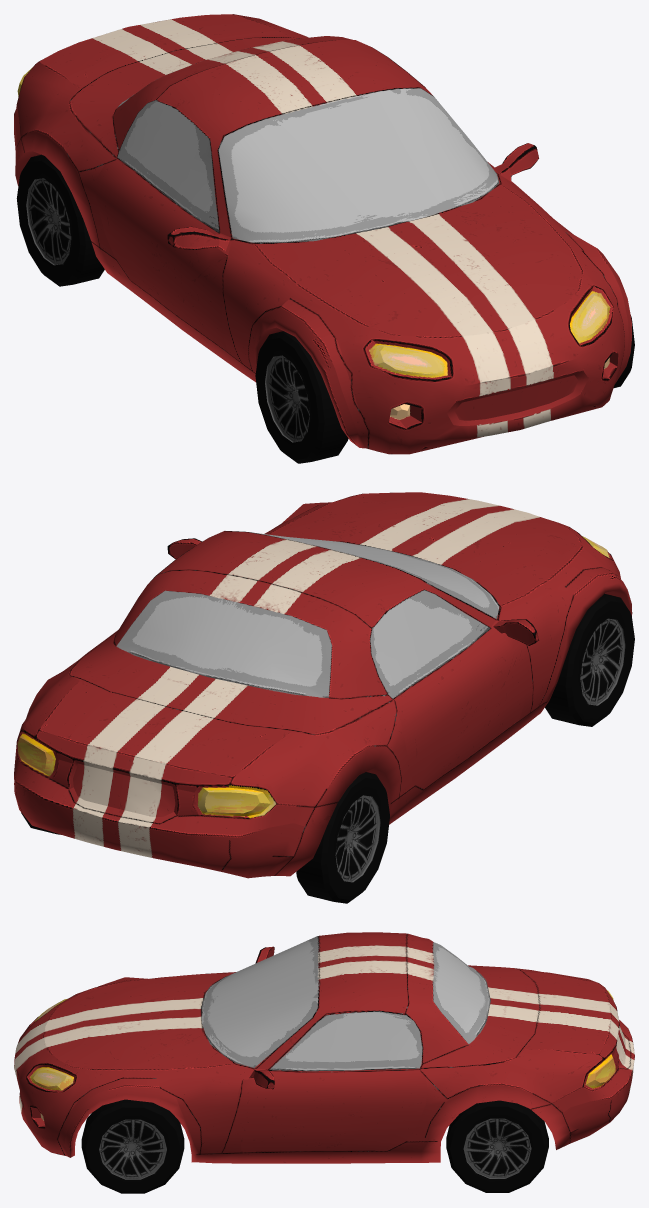
Rendered from Mazda.fbx.
The picture shows the model from 3 angles, top to bottom: view 1: azimuth 30°, elevation 25°; view 2: azimuth 150°, elevation 25°; view 3: azimuth 270°, elevation 25°; orthographic projection. The views are drawn at different scales.
Visible parts, largest first — view 1: Mazda, Mazda_Teker; view 2: Mazda, Mazda_Teker; view 3: Mazda, Mazda_Teker.
Boxes of the visible parts, left/top/right/bottom form: Mazda: left=14, top=14, right=632, bottom=454; Mazda_Teker: left=16, top=154, right=634, bottom=463; Mazda: left=14, top=492, right=632, bottom=878; Mazda_Teker: left=21, top=593, right=634, bottom=903; Mazda: left=14, top=932, right=634, bottom=1163; Mazda_Teker: left=81, top=1099, right=548, bottom=1193.
Size of the model in its own units: 211 by 130 by 410.
Materials: 2 (2 with a texture image).
